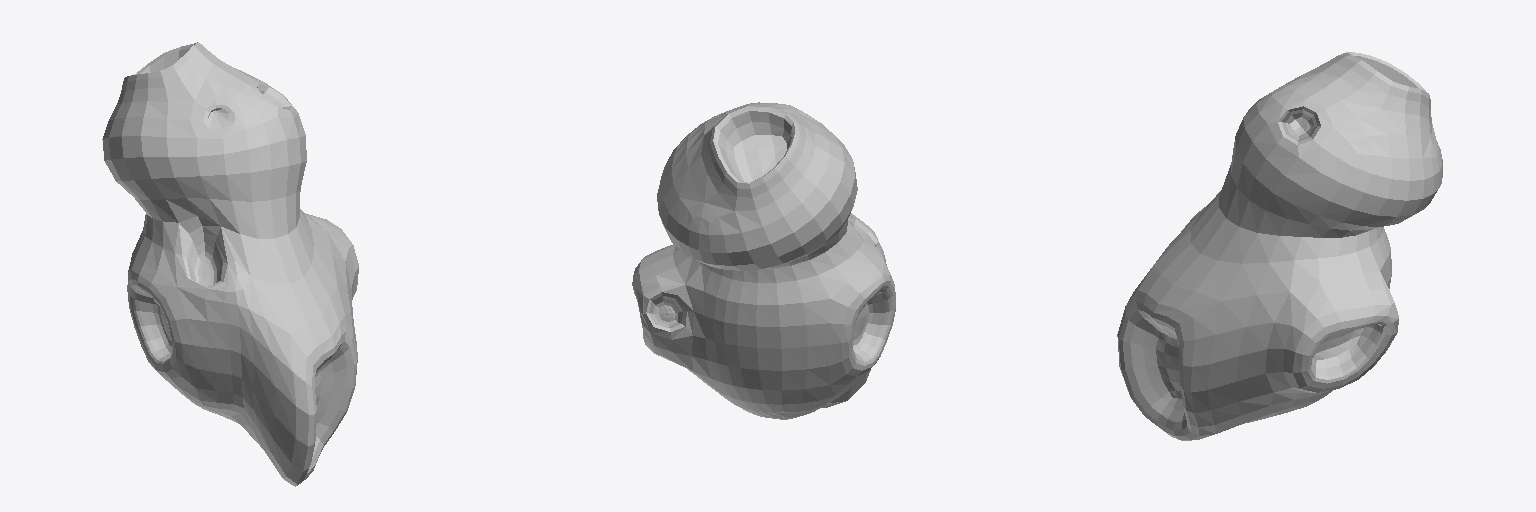
The model's file is AsteroidSphere_003.obj.
The picture shows the model from 3 angles: view 1: azimuth 30°, elevation 25°; view 2: azimuth 150°, elevation 25°; view 3: azimuth 270°, elevation 25°; orthographic projection.
Visible parts, largest first — view 1: Sphere.003; view 2: Sphere.003; view 3: Sphere.003.
Boxes of the visible parts, <box> form: Sphere.003: <box>102,42,358,486</box>; Sphere.003: <box>632,102,895,419</box>; Sphere.003: <box>1117,52,1442,440</box>.
Size of the model in its own units: 2.21 by 3.45 by 2.74.